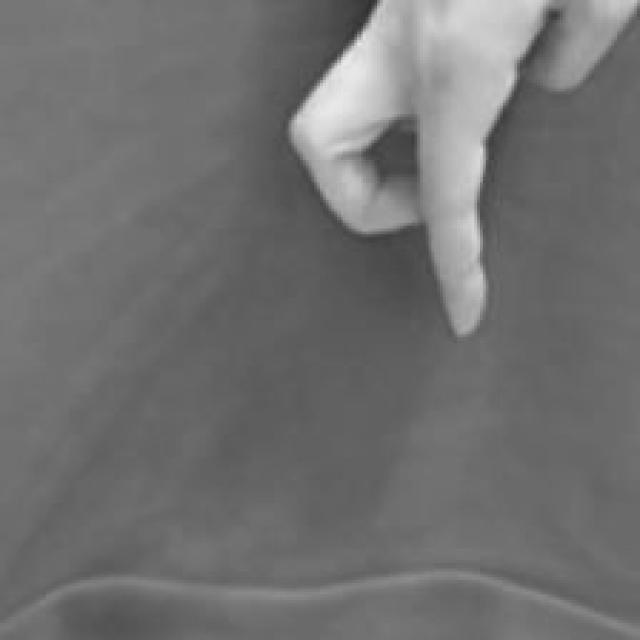P: (280, 0, 640, 344)
